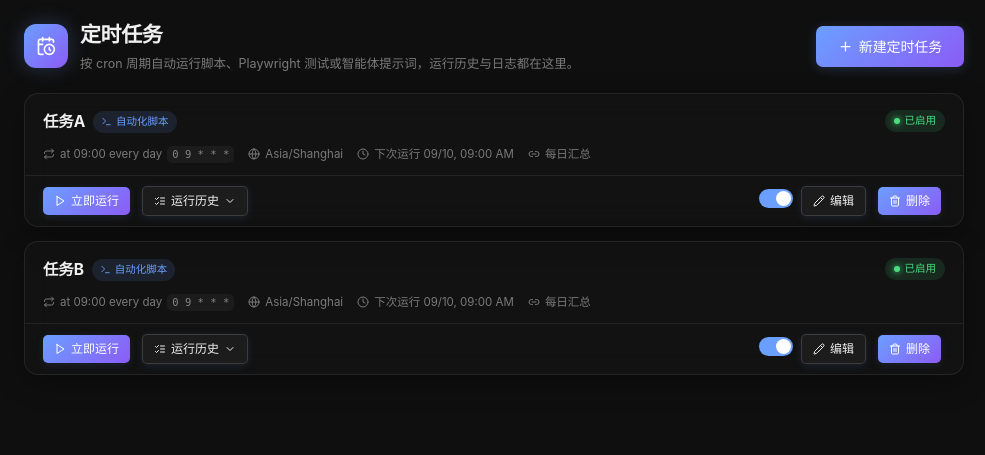
it: SchedulesPage › a stale slow history fetch cannot clobber the newly expanded row
Note: Two cards × [toggle, history] buttons — expand A (hangs), then B.
Click the button "运行历史" below "任务A".
click(195, 201)  # box x1=142 y1=186 x2=248 y2=216
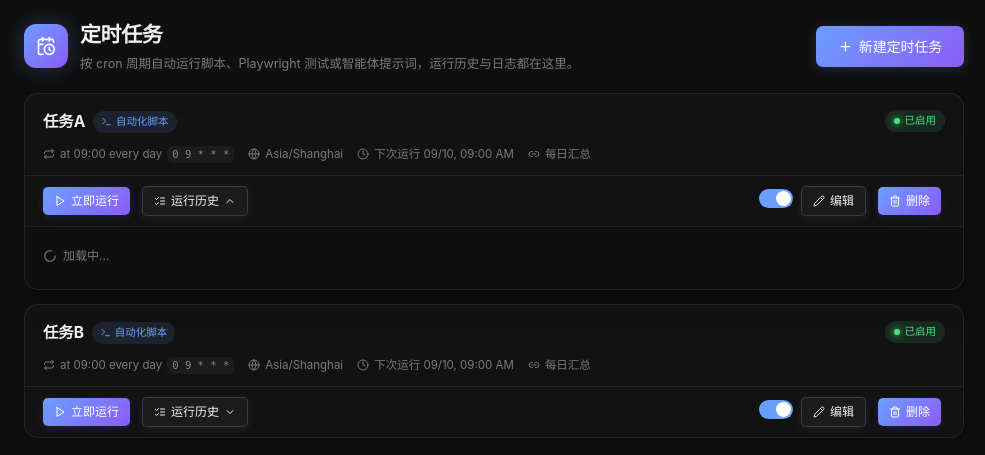
Click the button "运行历史" below "任务B".
click(195, 412)  # box x1=142 y1=397 x2=248 y2=427
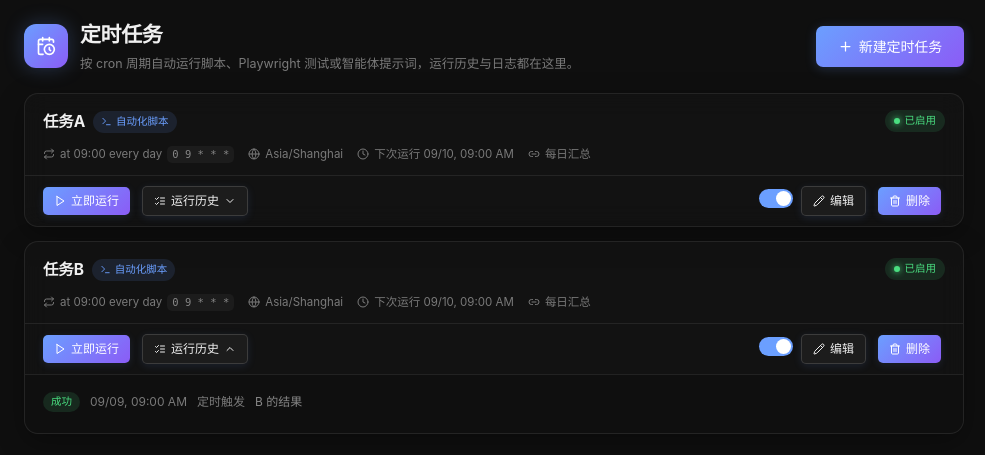
Now the element showing "成功 09/09, 09:00 AM 定时触发 B 的结果" is shown, box x1=43 y1=392 x2=302 y2=412
